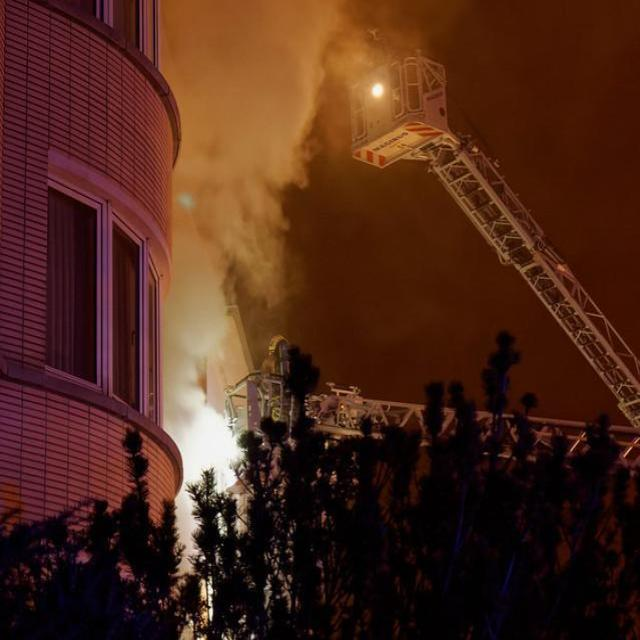smoke: (146, 2, 328, 522)
